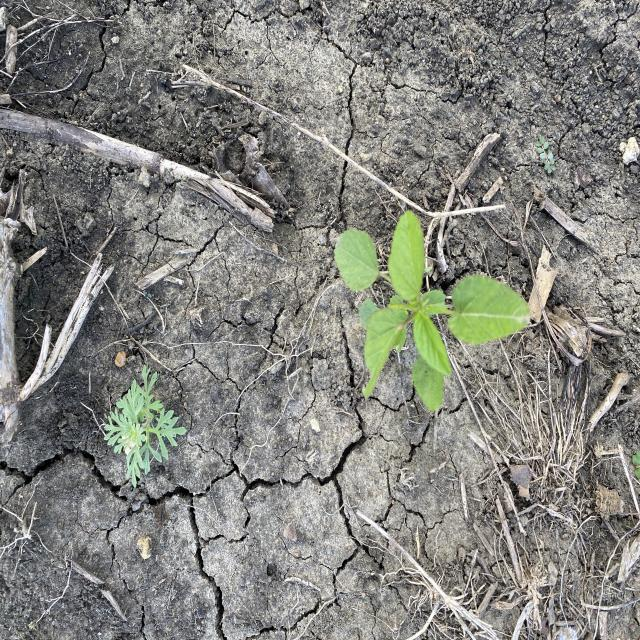PricklySida: (332, 207, 534, 414)
Ragweed: (100, 363, 188, 489)
